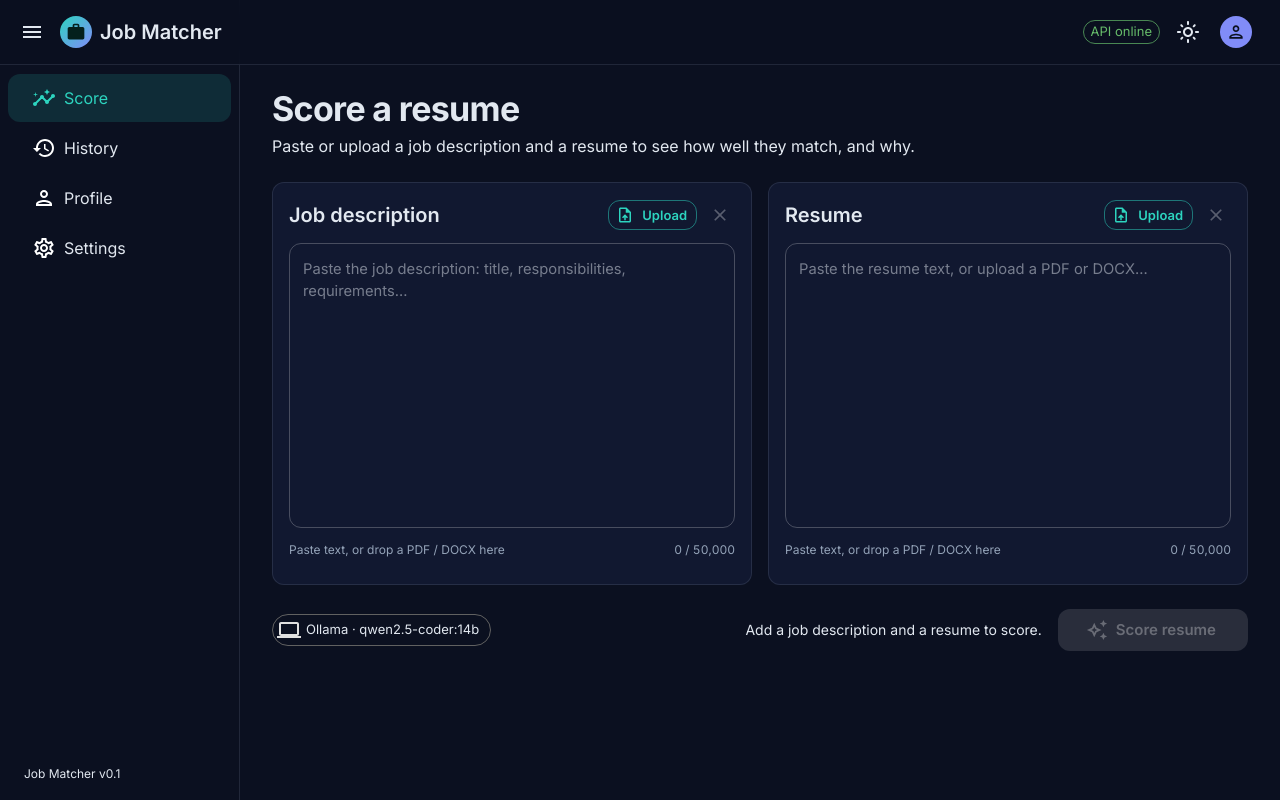
Test: AppShell › collapses the desktop sidebar to icons and remembers it
The width and height of the screenshot is (1280, 800).
Expected: the text "Job Matcher v0.1" is shown, x1=24 y1=766 x2=120 y2=781
Click the button named "Toggle navigation".
click(32, 32)  # box x1=12 y1=12 x2=52 y2=52
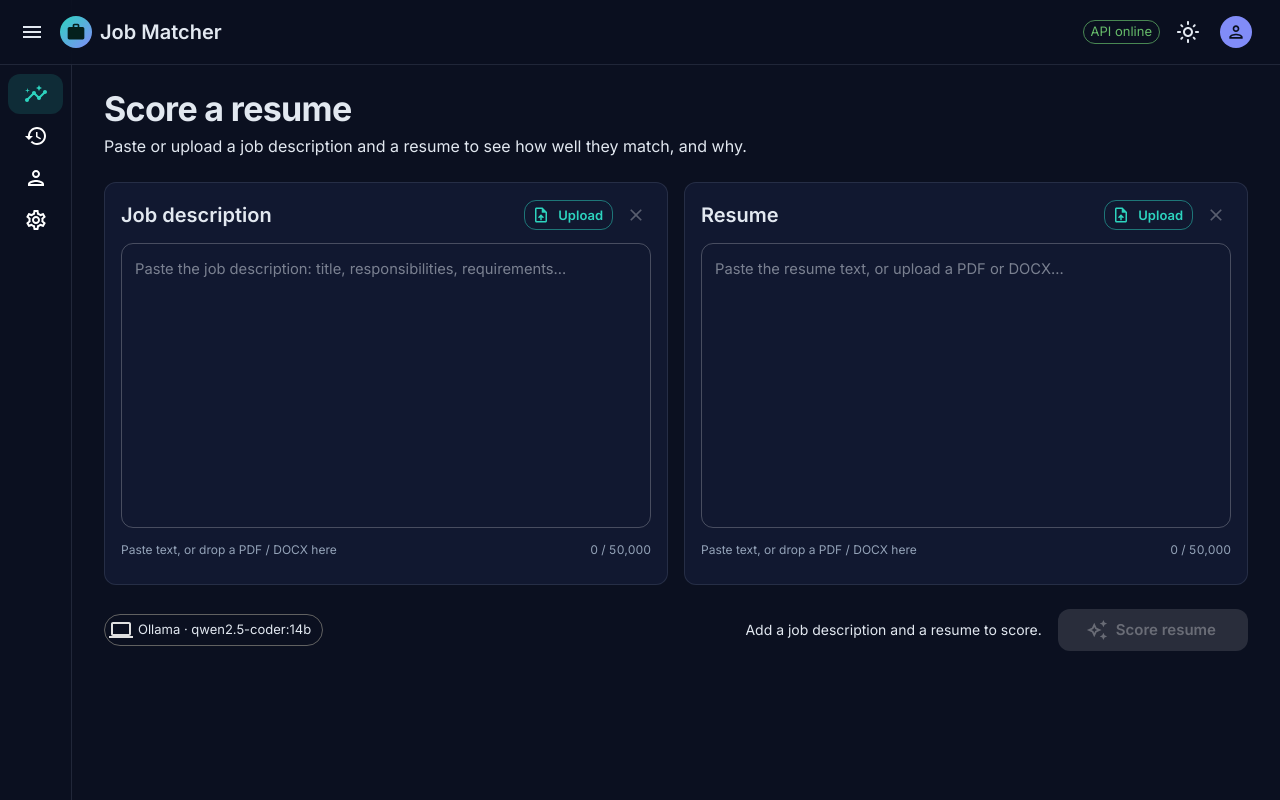
Expected: the link named "History" is shown, x1=24 y1=124 x2=48 y2=148
Result: the text "Job Matcher v0.1" is gone
